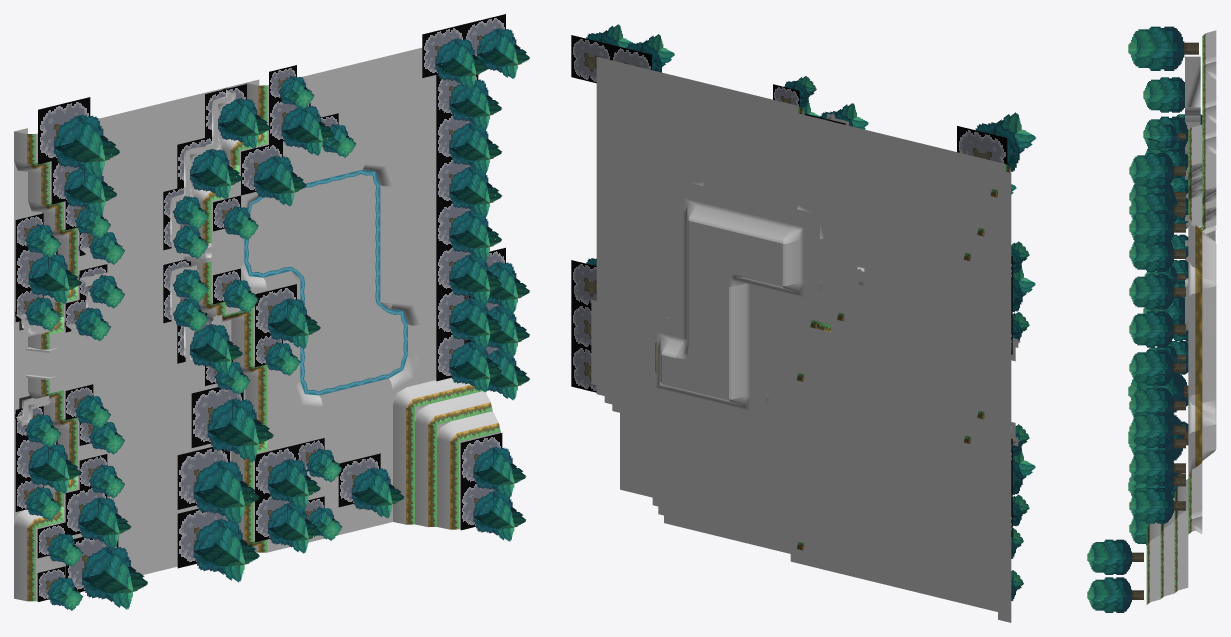
Rendered from Asteria_34_14.obj.
3 renders of one model, left to right at view 1: azimuth 30°, elevation 25°; view 2: azimuth 150°, elevation 25°; view 3: azimuth 270°, elevation 25°, orthographic. The views are drawn at different scales.
Parts seen in each view (by area): view 1: map; view 2: map; view 3: map.
Part boxes in pixels (x1=…): map: x1=14, y1=14, x2=529, y2=610; map: x1=571, y1=24, x2=1036, y2=622; map: x1=1087, y1=26, x2=1216, y2=612.
Size of the model in its own units: 34 by 33.75 by 9.76.
